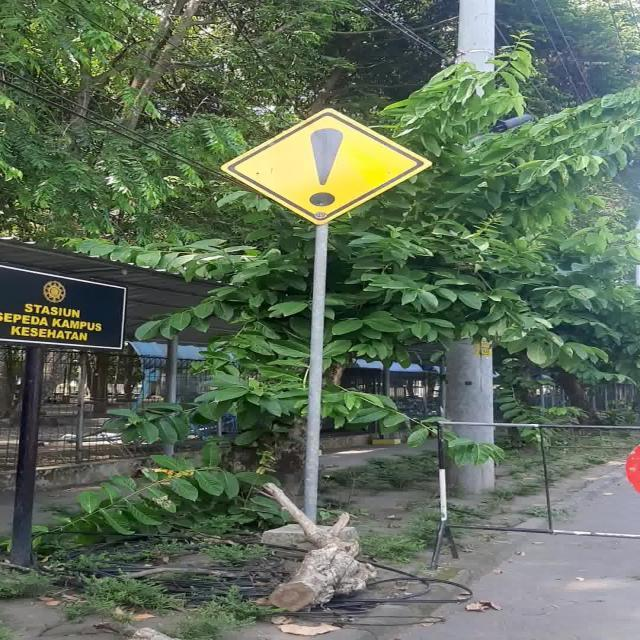Hati-Hati: (221, 107, 432, 225)
